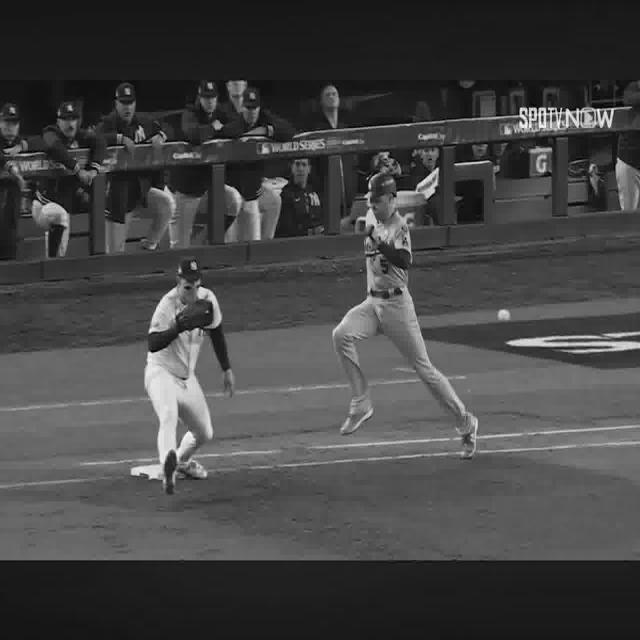base: (130, 463, 164, 480)
baseball: (498, 308, 510, 322)
baseball_glove: (176, 298, 214, 332)
shoe: (340, 401, 374, 435), (462, 415, 479, 458), (178, 458, 208, 480), (165, 450, 177, 496)
